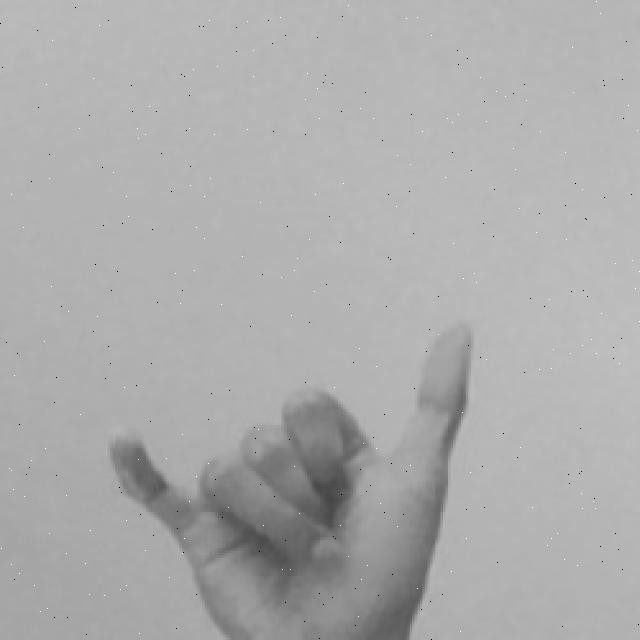Y: (97, 312, 483, 640)
